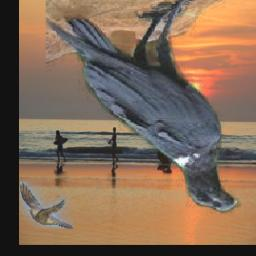Crow: (47, 0, 242, 214)
Cuckoo: (20, 182, 73, 230)
